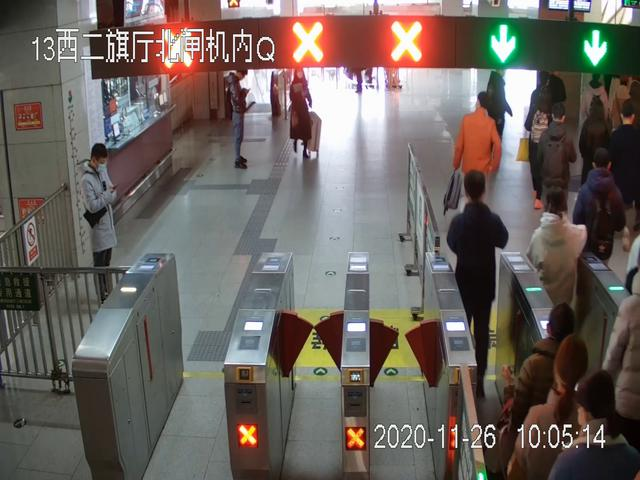person: (506, 337, 613, 480), (504, 305, 584, 480), (448, 170, 509, 398), (524, 187, 588, 342), (572, 146, 628, 316), (453, 93, 501, 232), (79, 144, 120, 300), (539, 105, 579, 234), (579, 94, 614, 221), (525, 90, 560, 210), (224, 66, 258, 169), (288, 65, 322, 159)
